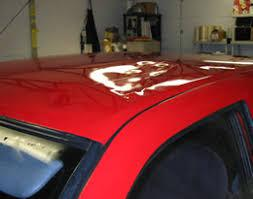roof-dent: (0, 52, 209, 160)
